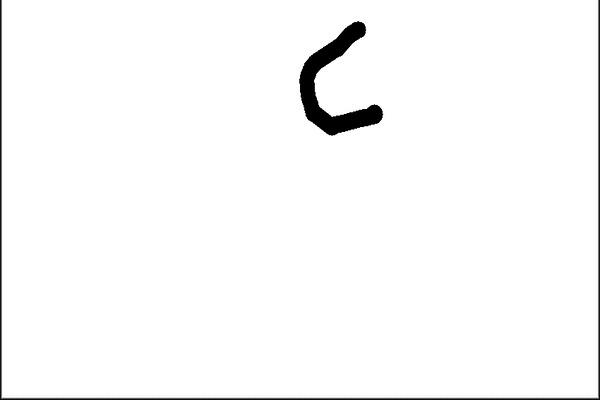C: (294, 15, 388, 134)
